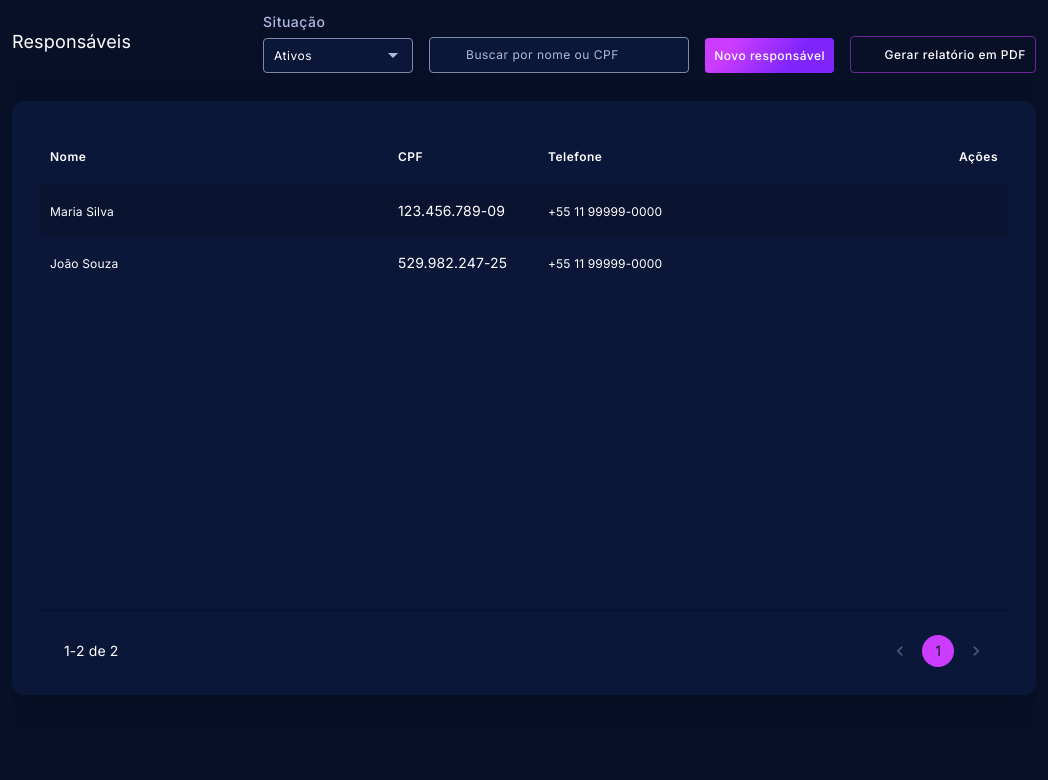
Guardians page search › sends the typed term and shows only what matches
The width and height of the screenshot is (1048, 780).
Expected: the text "Maria Silva" is shown, 50,204 -> 114,219
Type "Silva" into the field named "buscar responsáveis" at (572, 55), box 466,46 -> 678,64
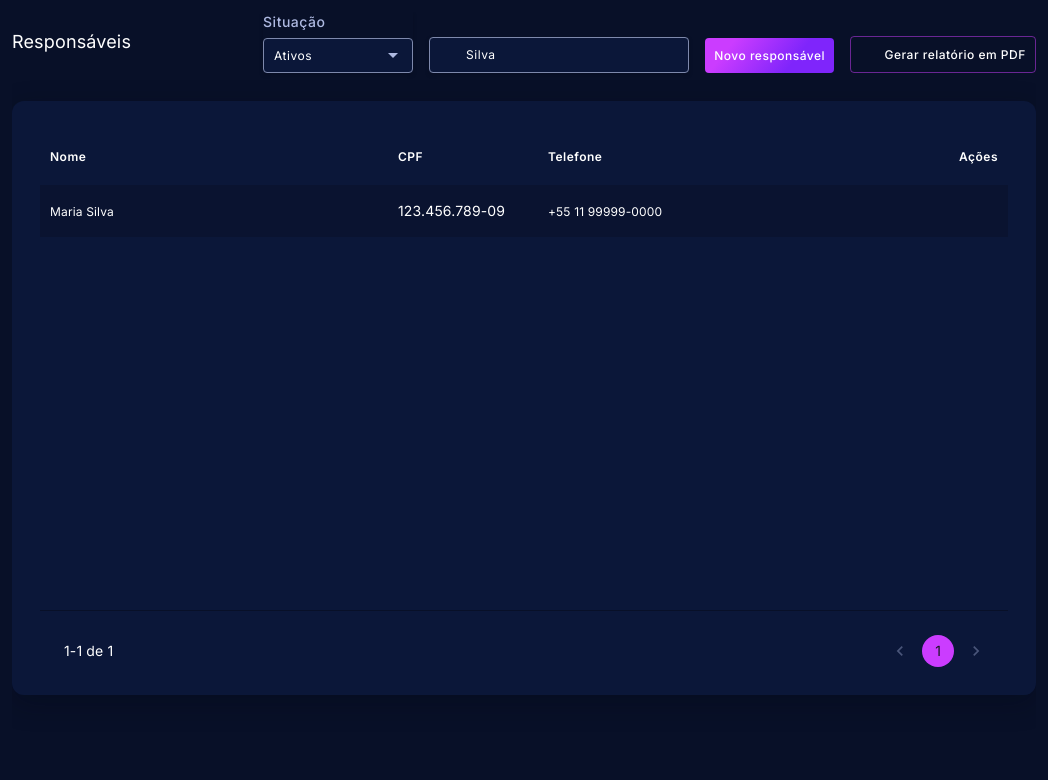
Expected: the text "Maria Silva" is shown, 50,204 -> 114,219
Expected: the text "João Souza" is gone
